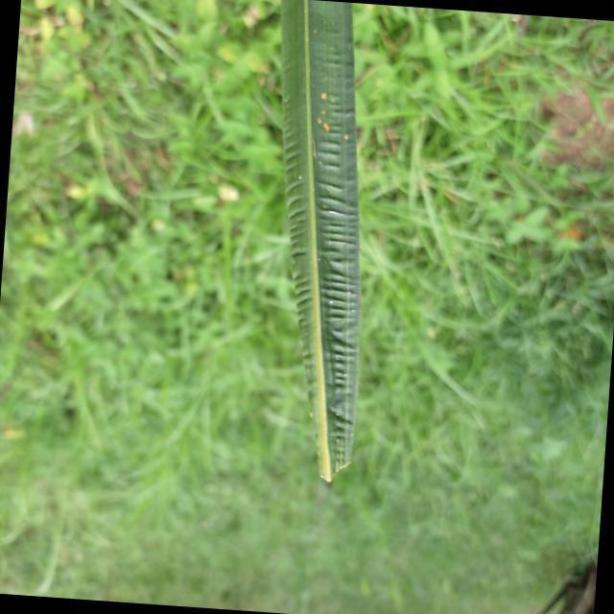Boron: (278, 0, 364, 484)
